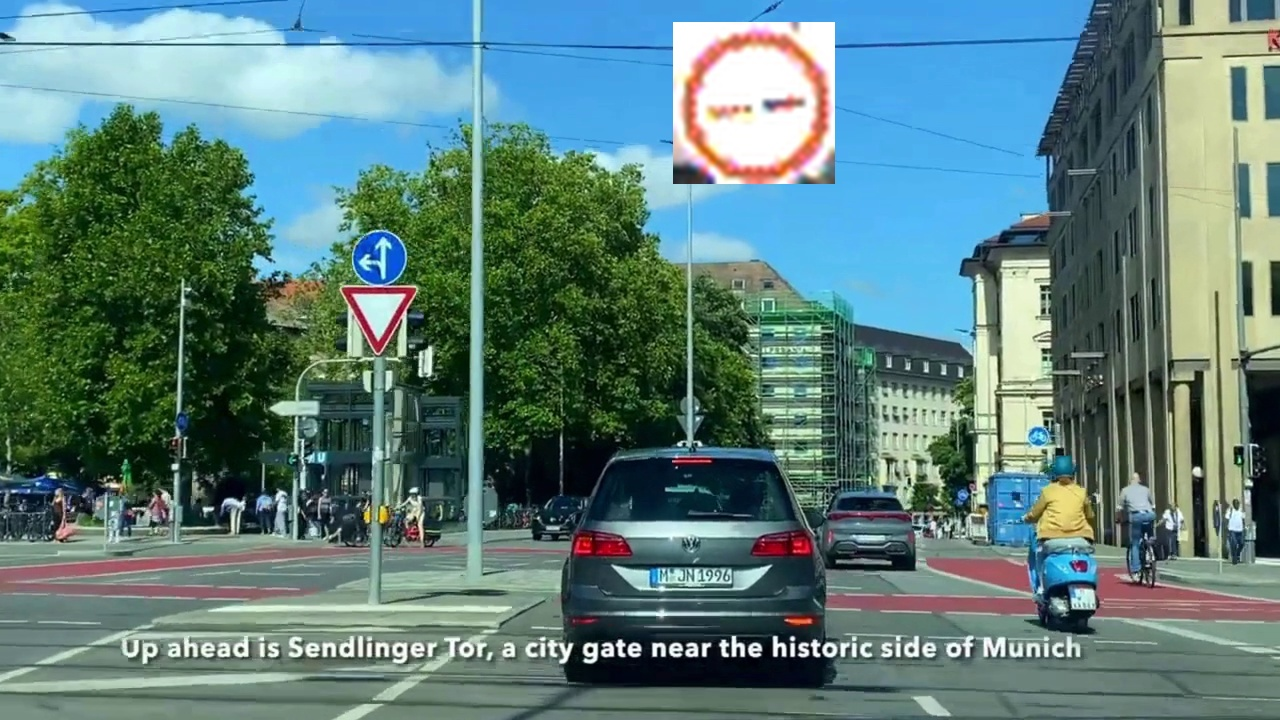No passing: (673, 22, 835, 184)
